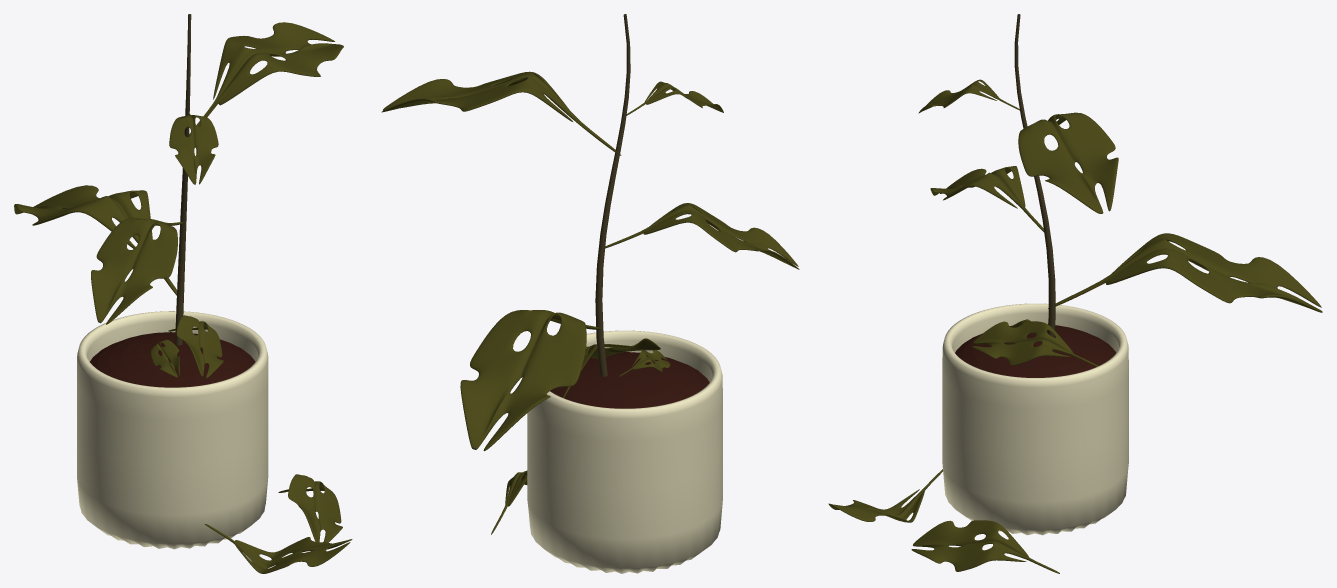
Rendered from plant_abandoned.glb.
3 views of the same model, side by side, from view 1: azimuth 30°, elevation 25°; view 2: azimuth 150°, elevation 25°; view 3: azimuth 270°, elevation 25° (orthographic). The views are drawn at different scales.
Parts seen in each view (by area): view 1: plant_abandoned; view 2: plant_abandoned; view 3: plant_abandoned.
Boxes of the visible parts, left/top/right/bottom form: plant_abandoned: left=14, top=14, right=352, bottom=573; plant_abandoned: left=381, top=14, right=799, bottom=573; plant_abandoned: left=828, top=14, right=1322, bottom=573.
Size of the model in its own units: 1.24 by 1.89 by 1.67.
